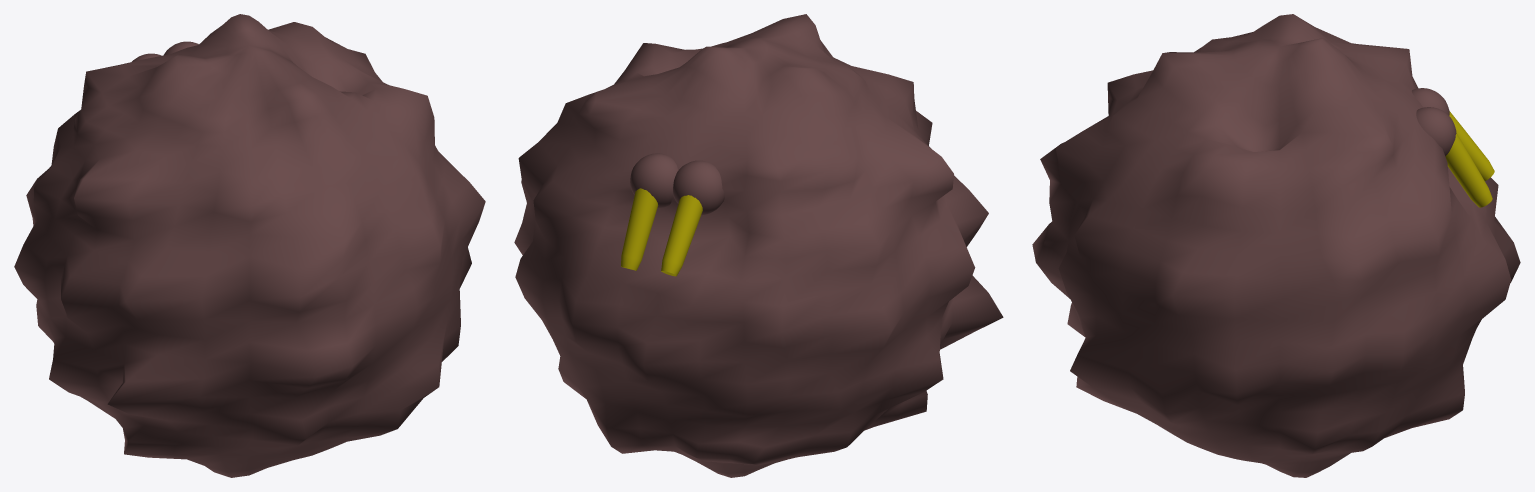
The model's file is Meatbalrus.fbx.
3 renders of one model, left to right at view 1: azimuth 30°, elevation 25°; view 2: azimuth 150°, elevation 25°; view 3: azimuth 270°, elevation 25°, orthographic.
Parts seen in each view (by area): view 1: meatbalrus1; view 2: meatbalrus1; view 3: meatbalrus1.
Part boxes in pixels (x1,y1,x2,y2): meatbalrus1: (14, 14, 485, 477); meatbalrus1: (514, 14, 1003, 477); meatbalrus1: (1032, 14, 1520, 477).
Bounding box in the file's own units: 741 × 717 × 757.
